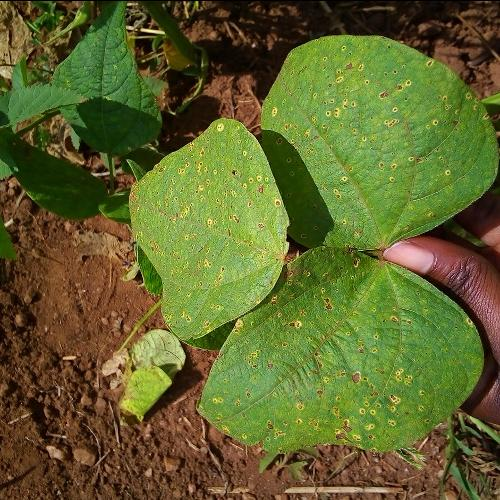hawar: (239, 322, 433, 463), (166, 106, 288, 326), (289, 29, 466, 174), (278, 231, 391, 318)
